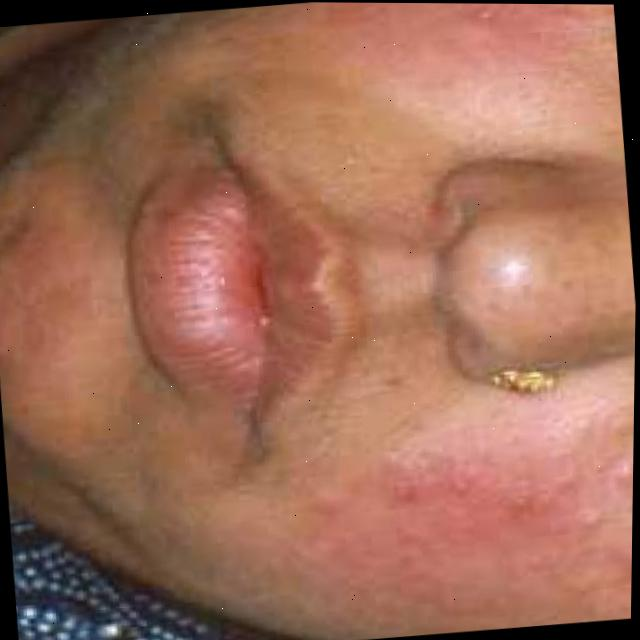Rosacea: (324, 426, 634, 640), (347, 3, 587, 100)
